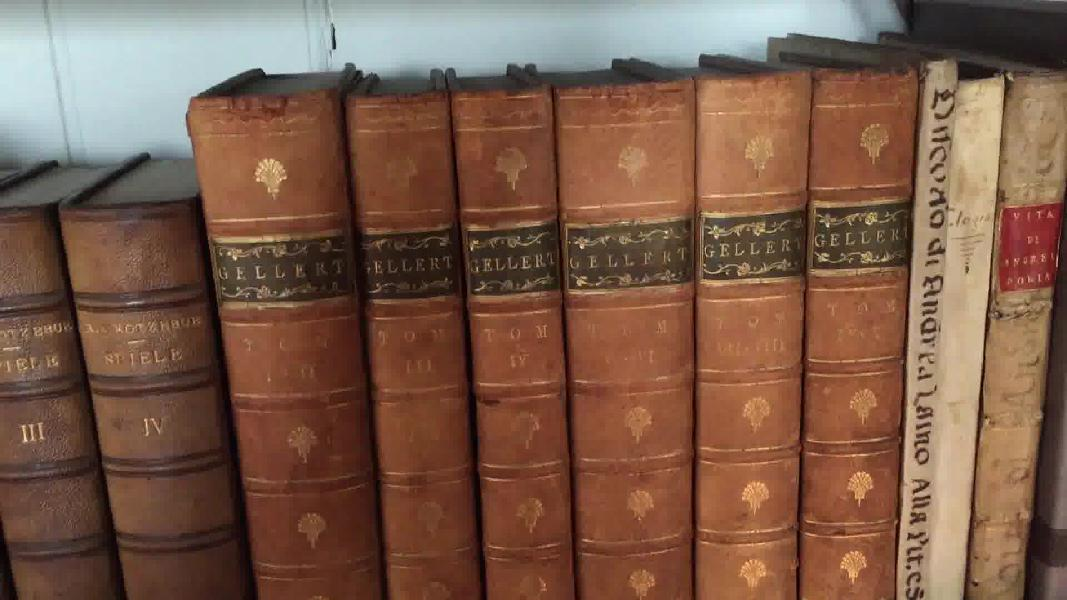Aa6-18_23: (190, 50, 913, 600)
Aa6-24: (892, 28, 960, 600)
Aa6-25: (924, 42, 1001, 600)
Aa6-26: (952, 55, 1066, 600)
